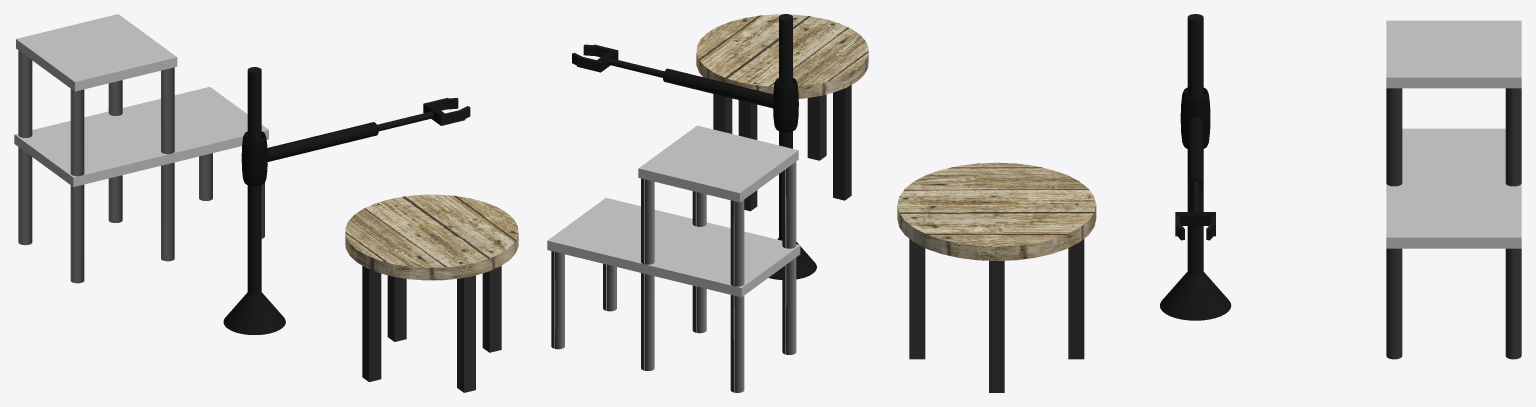
Rendered from Robot1.gltf.
3 views of the same model, side by side, from view 1: azimuth 30°, elevation 25°; view 2: azimuth 150°, elevation 25°; view 3: azimuth 270°, elevation 25° (orthographic). The views are drawn at different scales.
Parts seen in each view (by area): view 1: Cylinder.009, Cube.003, Cube.004, Cylinder.006, Cylinder, Cylinder.004, Cylinder.007, Cube.006, Cube.007, Cone, Cylinder.001, Cube.008 (+5 smaller); view 2: Cube.003, Cylinder.009, Cube.004, Cylinder.004, Cylinder.006, Cylinder.003, Cube.006, Cylinder.001, Cylinder, Cylinder.005, Cube.007, Torus (+8 smaller); view 3: Cylinder.009, Cube.003, Cube.004, Cylinder, Cone, Cube.008, Cube.005, Cube.007, Cylinder.005, Cylinder.008, Cylinder.003, Cylinder.007 (+2 smaller).
Boxes of the visible parts, x1,y1,x2,y2 form: Cylinder.009: [345, 194, 518, 280]; Cube.003: [14, 87, 268, 186]; Cube.004: [16, 14, 177, 91]; Cylinder.006: [70, 89, 84, 283]; Cylinder: [247, 67, 261, 295]; Cylinder.004: [18, 50, 32, 245]; Cylinder.007: [161, 67, 174, 261]; Cube.006: [362, 266, 381, 381]; Cube.007: [457, 275, 475, 392]; Cone: [223, 292, 285, 334]; Cylinder.001: [267, 122, 378, 161]; Cube.008: [482, 266, 501, 352]; Cube.003: [547, 198, 800, 297]; Cylinder.009: [696, 14, 868, 98]; Cube.004: [638, 125, 798, 202]; Cylinder.004: [730, 200, 744, 392]; Cylinder.006: [782, 162, 796, 354]; Cylinder.003: [641, 178, 654, 370]; Cube.006: [833, 85, 851, 200]; Cylinder.001: [663, 68, 773, 108]; Cylinder: [779, 14, 792, 240]; Cylinder.005: [551, 251, 564, 349]; Cube.007: [807, 94, 826, 160]; Torus: [773, 78, 798, 132]; Cylinder.009: [897, 162, 1096, 260]; Cube.003: [1386, 128, 1521, 248]; Cube.004: [1386, 20, 1521, 88]; Cylinder: [1187, 14, 1203, 275]; Cone: [1160, 272, 1231, 320]; Cube.008: [989, 260, 1004, 392]; Cube.005: [1068, 239, 1084, 359]; Cube.007: [909, 239, 925, 359]; Cylinder.005: [1505, 248, 1521, 359]; Cylinder.008: [1386, 248, 1402, 359]; Cylinder.003: [1505, 88, 1521, 186]; Cylinder.007: [1386, 88, 1402, 186].
Size of what is drawn, in the model's own units: 10.2 by 8 by 15.7.
